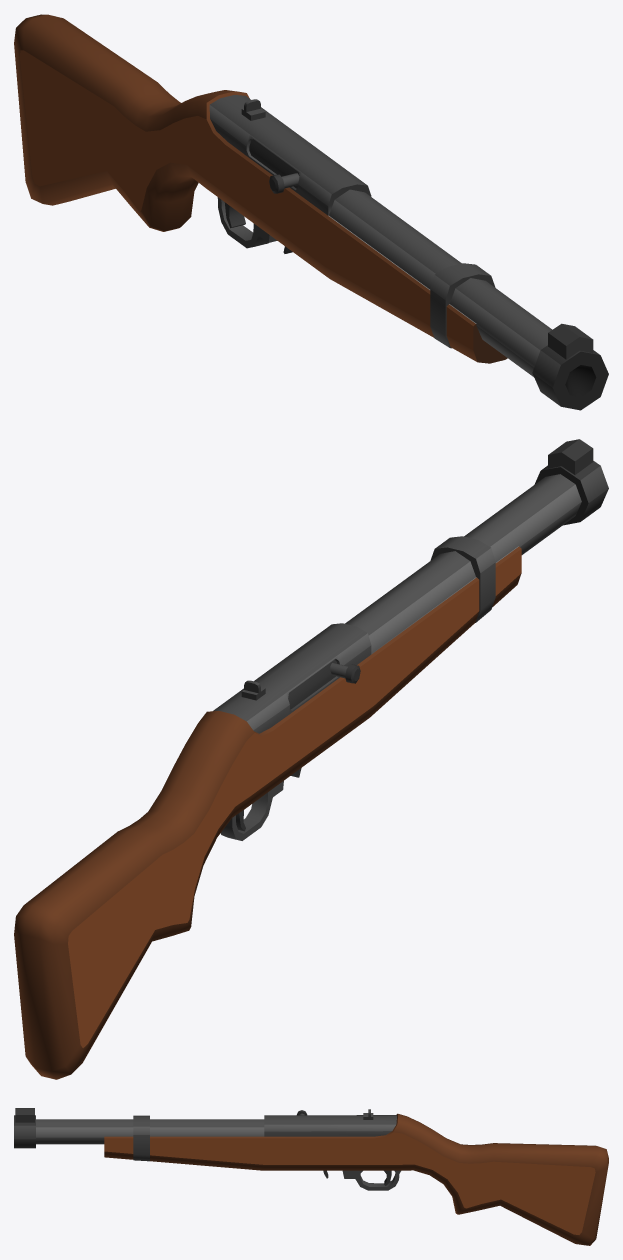
Rendered from Weapon_AR01_G1.fbx.
3 views of the same model, one above another, from view 1: azimuth 30°, elevation 25°; view 2: azimuth 150°, elevation 25°; view 3: azimuth 270°, elevation 25° (orthographic). The views are drawn at different scales.
Visible parts, largest first — view 1: Weapon_AR01_G1; view 2: Weapon_AR01_G1; view 3: Weapon_AR01_G1.
Part boxes in pixels (x1,y1,x2,y2): Weapon_AR01_G1: (14,14,608,410); Weapon_AR01_G1: (14,439,608,1079); Weapon_AR01_G1: (14,1108,608,1245).
Size of the model in its own units: 1.12 by 3.79 by 15.1.
